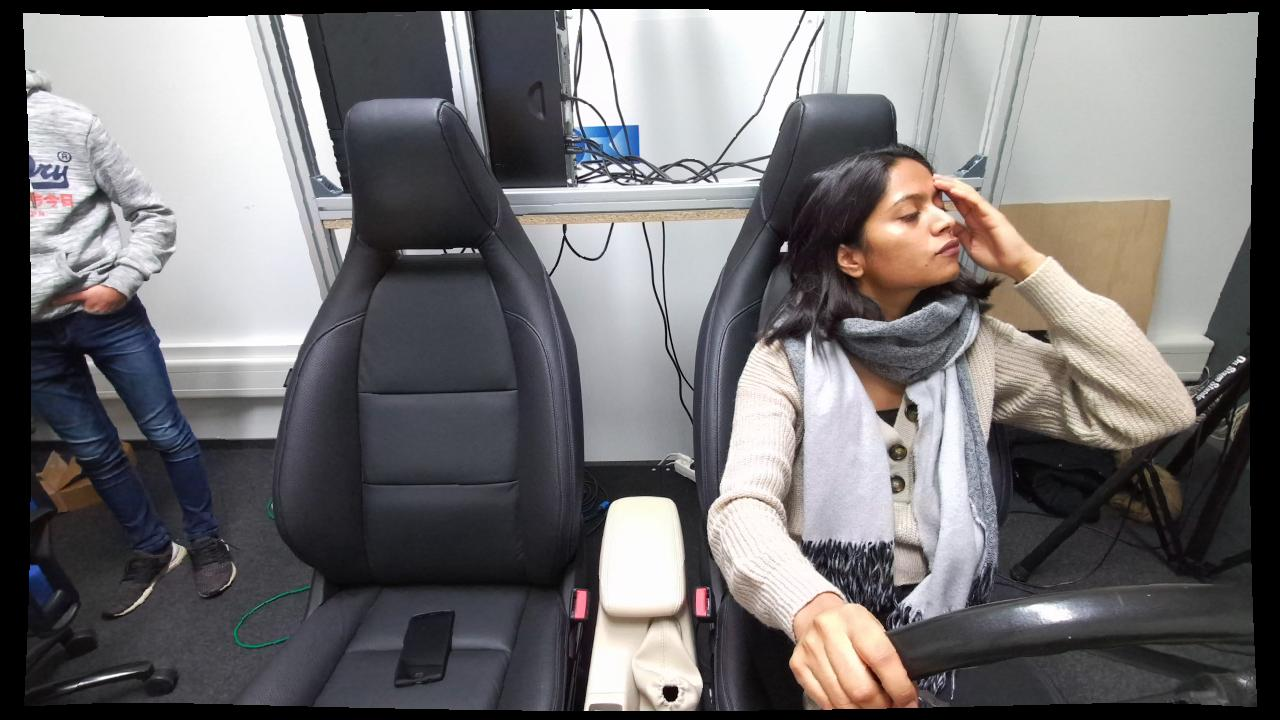Distracted: (695, 118, 1193, 707)
